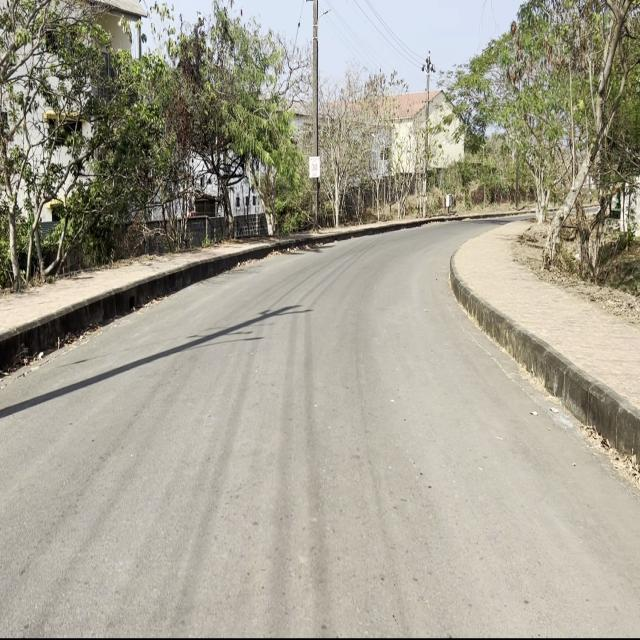Road: (4, 229, 638, 634)
